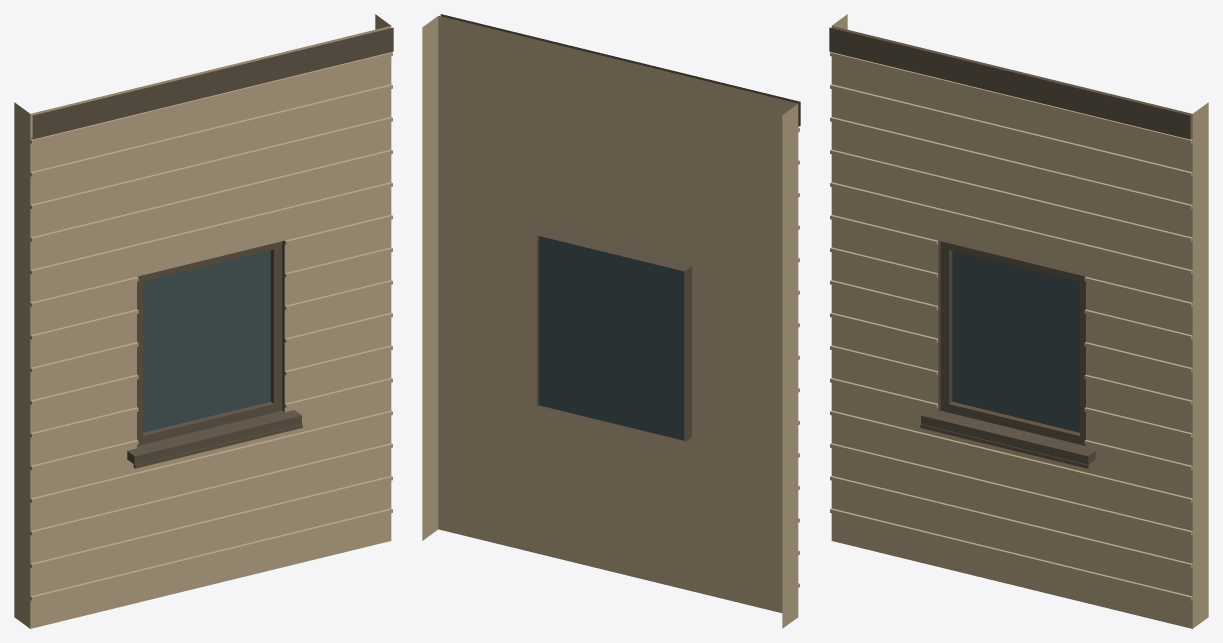
File: mid-stair_close.fbx
3 views of the same model, side by side, from view 1: azimuth 30°, elevation 25°; view 2: azimuth 150°, elevation 25°; view 3: azimuth 330°, elevation 25° (orthographic).
Visible parts, largest first — view 1: a2015/0/mid-stair_close; view 2: a2015/0/mid-stair_close; view 3: a2015/0/mid-stair_close.
Part boxes in pixels (left/top/right/bottom): a2015/0/mid-stair_close: left=14, top=14, right=393, bottom=628; a2015/0/mid-stair_close: left=422, top=14, right=800, bottom=628; a2015/0/mid-stair_close: left=829, top=14, right=1208, bottom=628.
Size of the model in its own units: 2.2 by 3 by 0.255.
